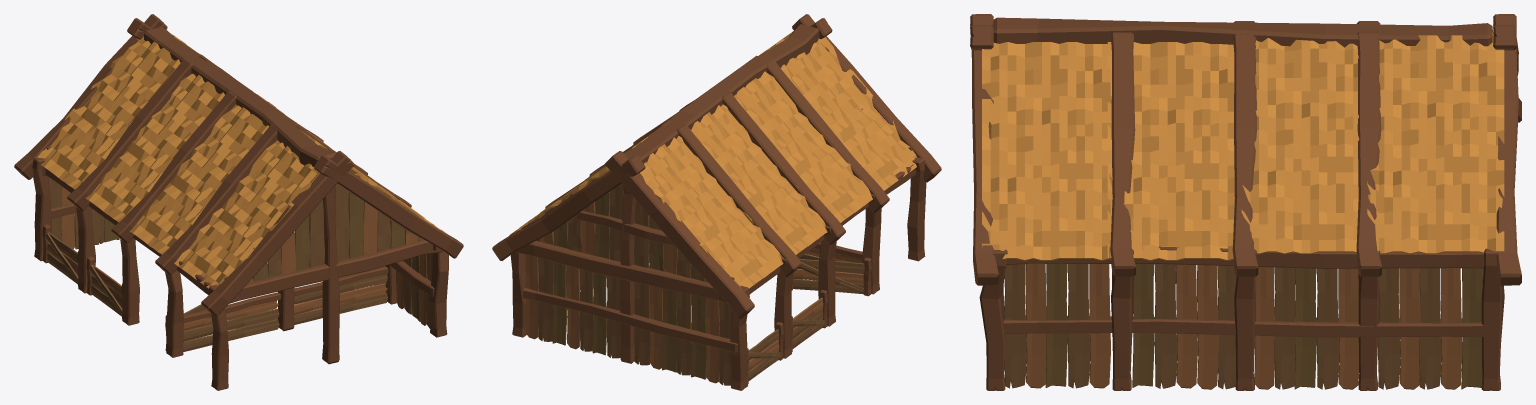
The model's file is Stal.fbx.
The picture shows the model from 3 angles, left to right: view 1: azimuth 30°, elevation 25°; view 2: azimuth 150°, elevation 25°; view 3: azimuth 270°, elevation 25°; orthographic projection. The views are drawn at different scales.
Parts seen in each view (by area): view 1: Outside, Inside; view 2: Outside, Inside; view 3: Outside.
Boxes of the visible parts, left/top/right/bottom form: Outside: left=14, top=14, right=463, bottom=390; Inside: left=165, top=266, right=388, bottom=351; Outside: left=492, top=14, right=941, bottom=390; Inside: left=792, top=242, right=871, bottom=296; Outside: left=970, top=14, right=1521, bottom=390.
Size of the model in its own units: 638 by 500 by 851.
